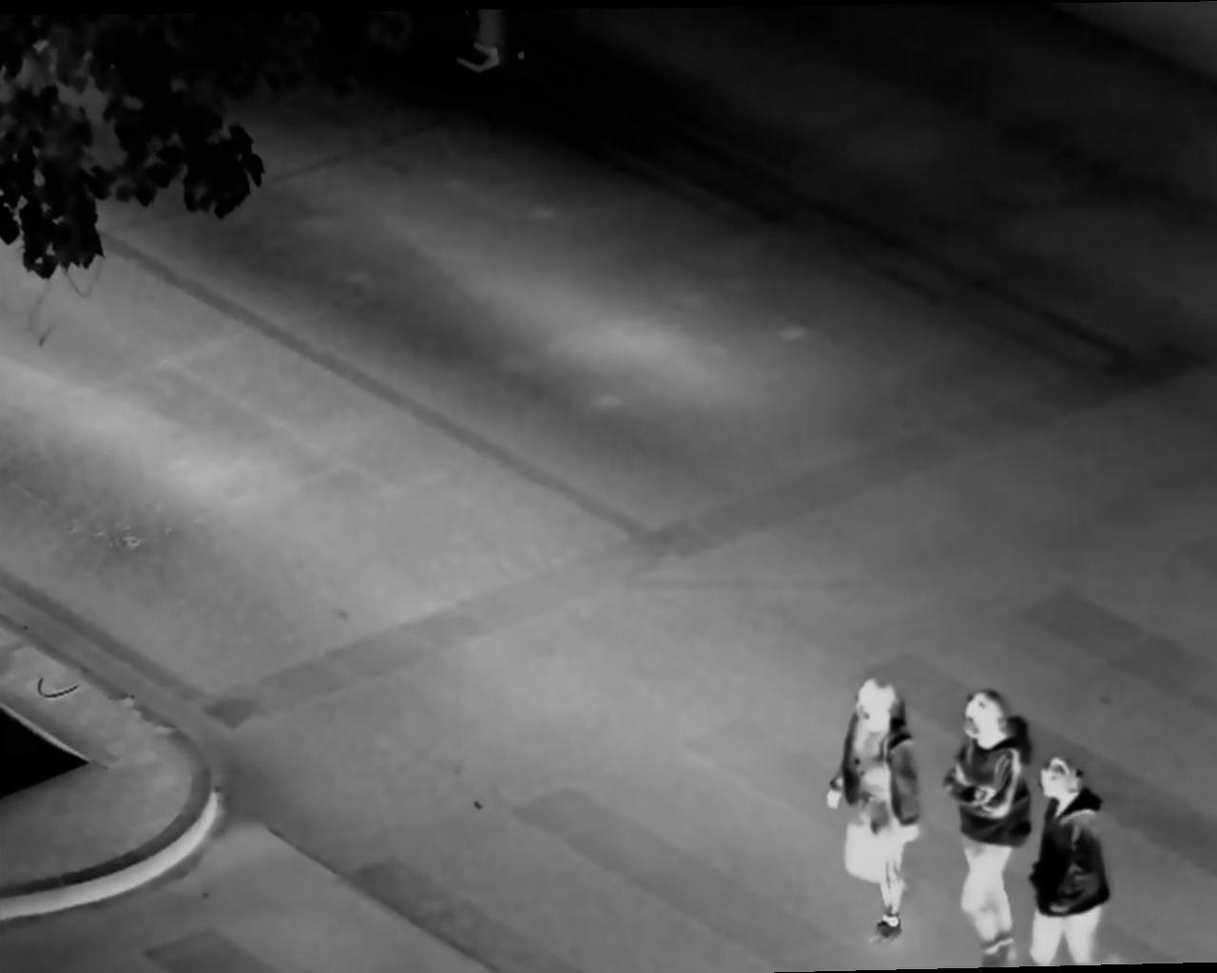person: (822, 670, 941, 950), (953, 677, 1043, 973), (1031, 754, 1137, 973)
